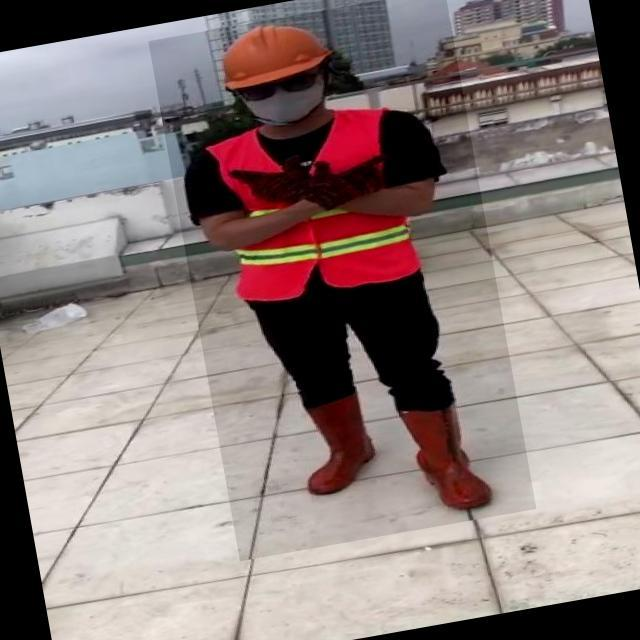Gloves: (225, 153, 321, 212), (314, 148, 399, 206)
Helmet: (206, 11, 337, 93)
Human: (148, 0, 537, 560)
Safety Boot: (400, 396, 501, 518), (293, 392, 386, 500)
Safety Vest: (203, 102, 424, 308)
